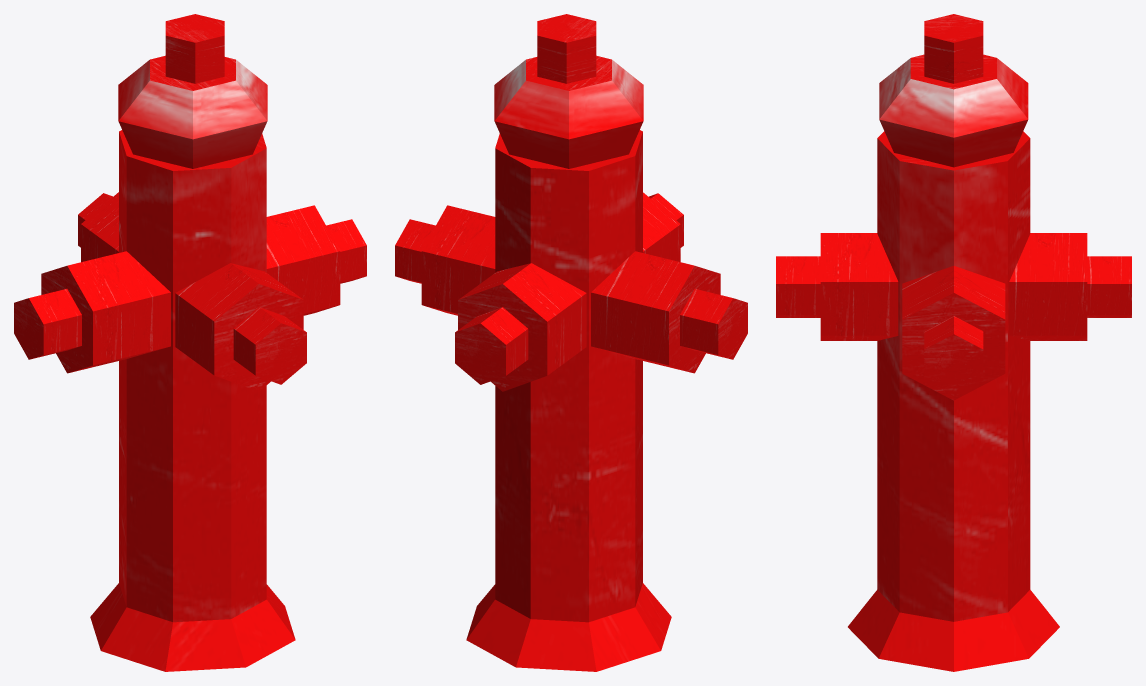
The model's file is Hydrant_1.fbx.
3 renders of one model, left to right at view 1: azimuth 30°, elevation 25°; view 2: azimuth 150°, elevation 25°; view 3: azimuth 270°, elevation 25°, orthographic.
Parts seen in each view (by area): view 1: Hydrant_1; view 2: Hydrant_1; view 3: Hydrant_1.
Part boxes in pixels (x1=…): Hydrant_1: x1=14, y1=14, x2=366, y2=671; Hydrant_1: x1=395, y1=14, x2=747, y2=671; Hydrant_1: x1=776, y1=14, x2=1131, y2=671.
Size of the model in its own units: 3.43 by 6.08 by 3.27.
1 material, 1 textured.
